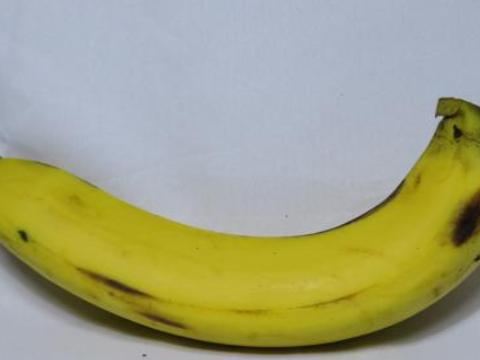freshripe: (0, 81, 479, 359)
